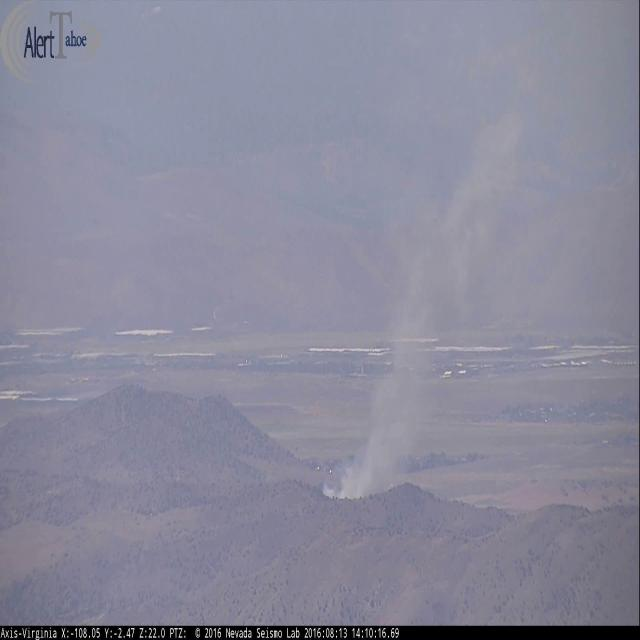smoke: (319, 101, 526, 500)
